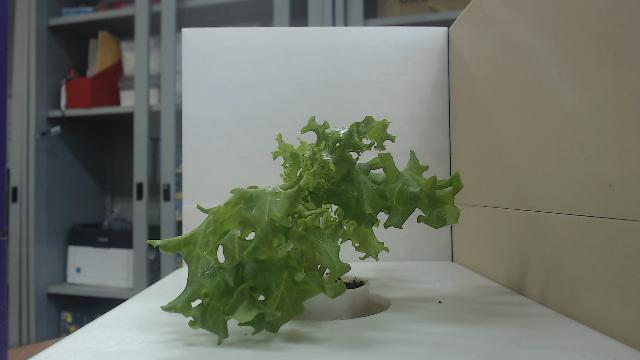Harvest Stage: (147, 114, 466, 346)
